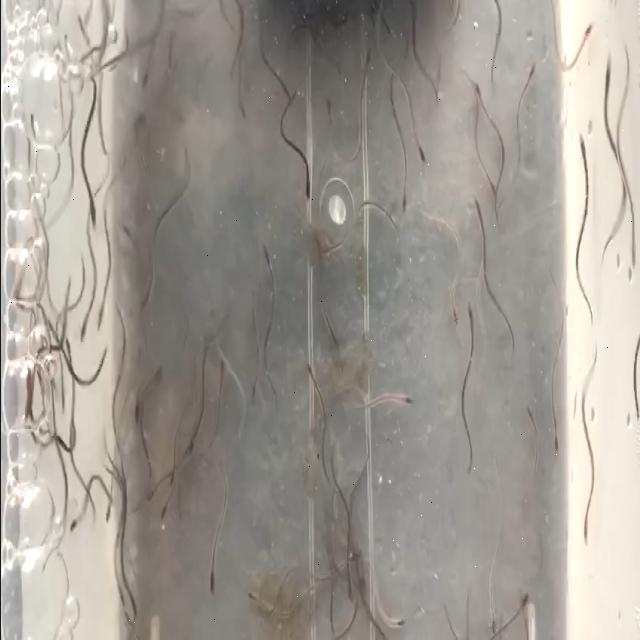active_glass_eel: (294, 165, 314, 217), (400, 369, 418, 426), (256, 231, 280, 271), (462, 294, 484, 336), (342, 572, 362, 616), (597, 49, 615, 94), (514, 582, 536, 618), (242, 569, 258, 618), (393, 182, 415, 216), (83, 191, 100, 235), (305, 358, 324, 396), (572, 130, 590, 170), (548, 422, 566, 460), (236, 98, 253, 138), (133, 290, 153, 324), (444, 286, 459, 331), (247, 372, 263, 414), (102, 486, 115, 536), (467, 81, 485, 117), (412, 138, 428, 176), (580, 16, 596, 52), (470, 188, 486, 224), (94, 304, 112, 336), (212, 344, 226, 385), (62, 329, 76, 368), (361, 46, 374, 87), (394, 603, 408, 640), (525, 54, 539, 90), (202, 577, 216, 611), (69, 506, 83, 539), (132, 386, 142, 431), (156, 498, 172, 526), (76, 313, 90, 345), (580, 510, 590, 551), (521, 399, 535, 428), (164, 466, 178, 488)
